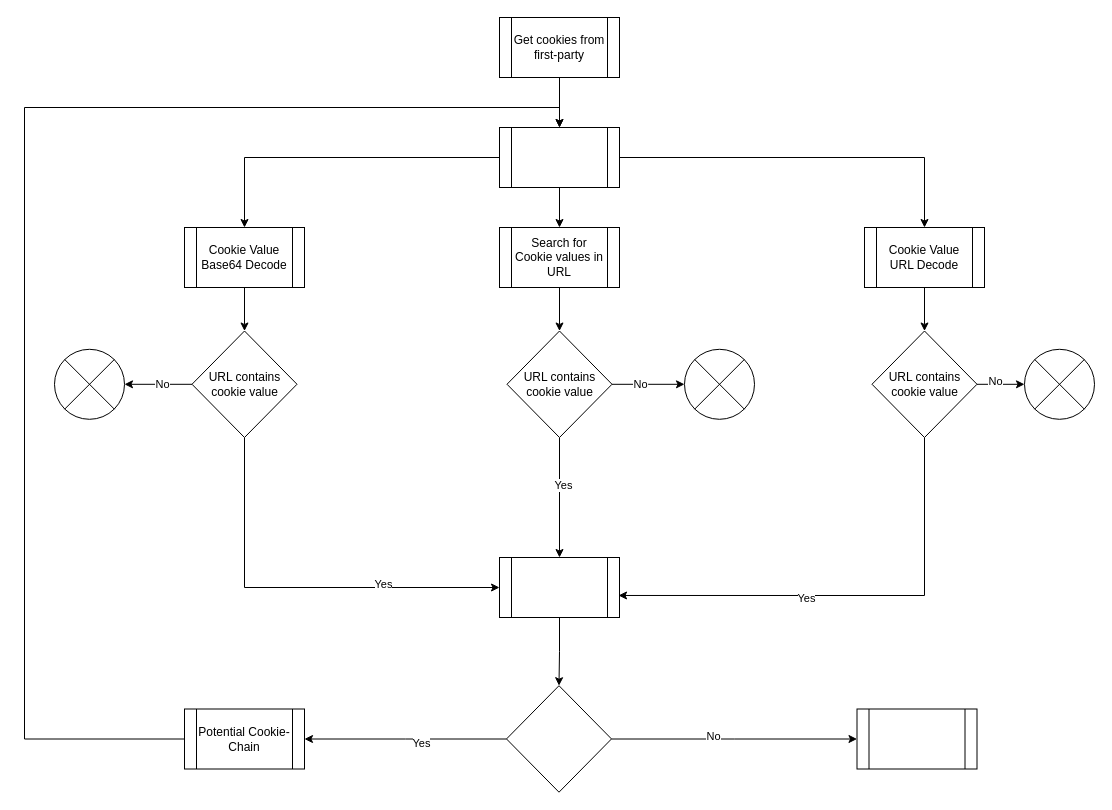
Image size: 1112x810. Some labels were removed from this diagram. The centre of each missing label's shape, as x and y in pixels:
Analyse Results: the point at 559,587
Extract Cookie Values: the point at 559,157
Response contains a Set-Cookie: the point at 559,738
